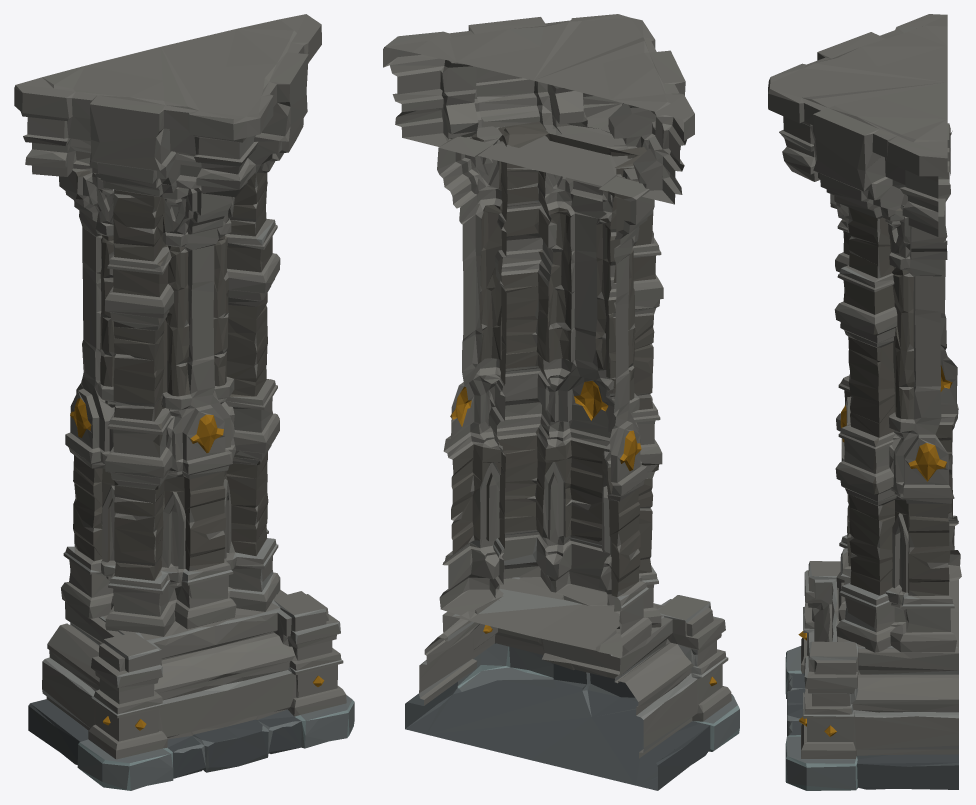
The model's file is MDungeons_PillarTall_Med_01_Half.FBX.
The picture shows the model from 3 angles, left to right: view 1: azimuth 30°, elevation 25°; view 2: azimuth 150°, elevation 25°; view 3: azimuth 270°, elevation 25°; orthographic projection. The views are drawn at different scales.
Parts seen in each view (by area): view 1: MDungeons_PillarTall_Med_01_Half_LOD0; view 2: MDungeons_PillarTall_Med_01_Half_LOD0; view 3: MDungeons_PillarTall_Med_01_Half_LOD0.
Boxes of the visible parts, bbox=[...] form: MDungeons_PillarTall_Med_01_Half_LOD0: bbox=[14, 14, 354, 790]; MDungeons_PillarTall_Med_01_Half_LOD0: bbox=[383, 14, 739, 790]; MDungeons_PillarTall_Med_01_Half_LOD0: bbox=[768, 14, 961, 790].
Size of what is drawn, in the model's own units: 7.16 by 15.31 by 4.12.
